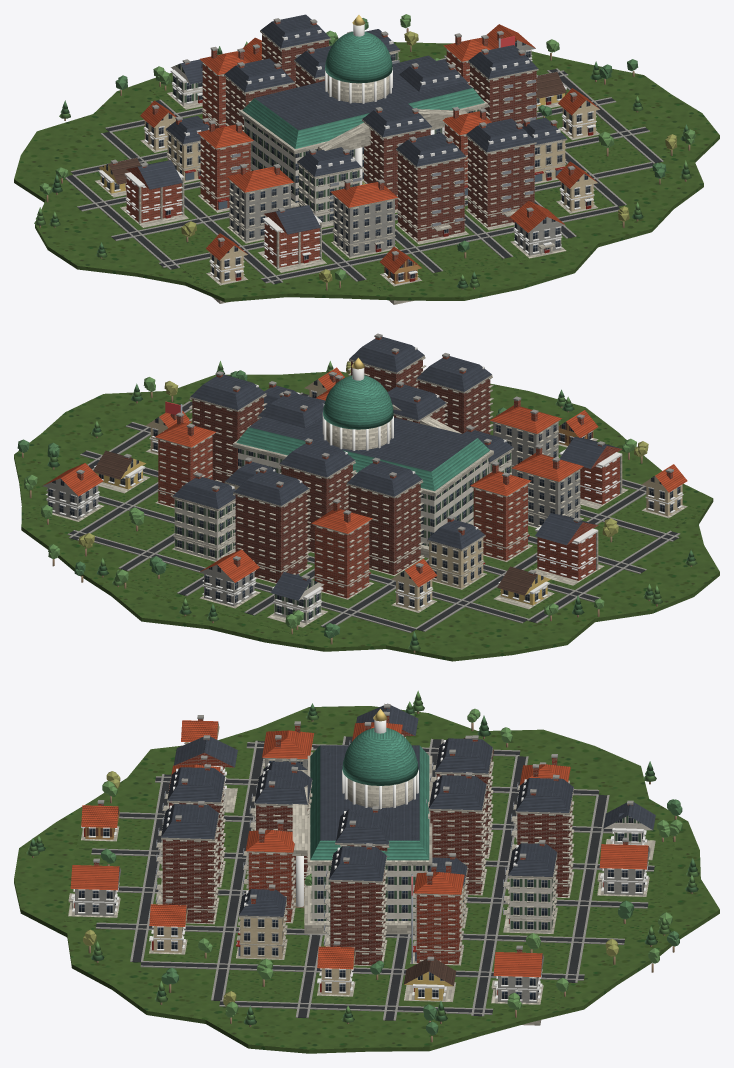
Rendered from city_west_capital.gltf.
3 views of the same model, one above another, from view 1: azimuth 30°, elevation 25°; view 2: azimuth 150°, elevation 25°; view 3: azimuth 270°, elevation 25° (orthographic). The views are drawn at different scales.
Parts seen in each view (by area): view 1: city_west_capital; view 2: city_west_capital; view 3: city_west_capital.
Boxes of the visible parts, x1,y1,x2,y2 form: city_west_capital: [14, 14, 719, 304]; city_west_capital: [14, 333, 719, 661]; city_west_capital: [14, 690, 719, 1053].
Size of the model in its own units: 5.77 by 1.5 by 5.01.
Materials: 26 (17 with a texture image).
